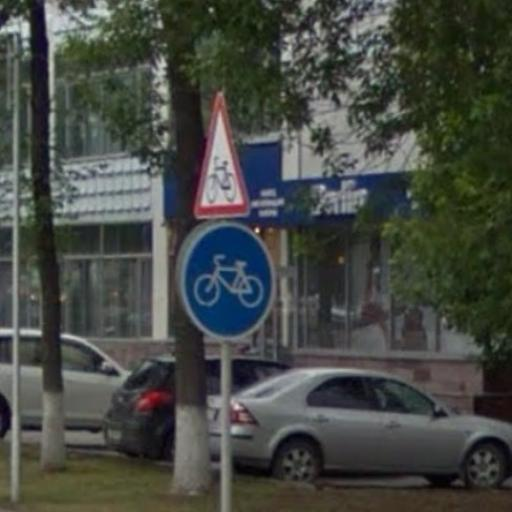traffic_sign: (179, 222, 280, 344), (191, 90, 254, 222)
